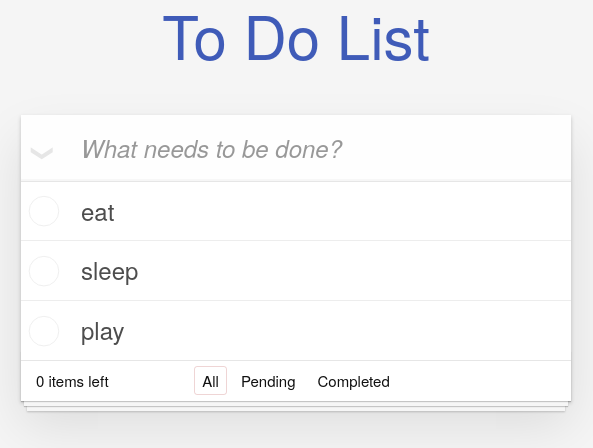
it: Delete all completed tasks › If no tasks are completed, the clear completed button should not show, otherwise show
What coordinates should you click on to do the following:
click the checkbox with test id "todo-done"
I would click on:
 (296, 211)
Its box is [21,182,571,240].
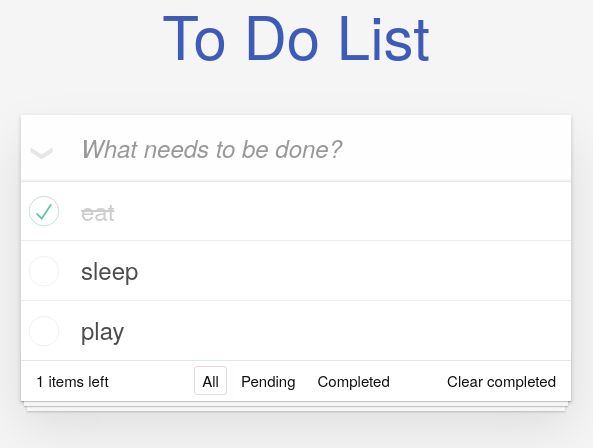
expect the button with test id "clear-completed" is shown: met, box [447,371,556,391]
